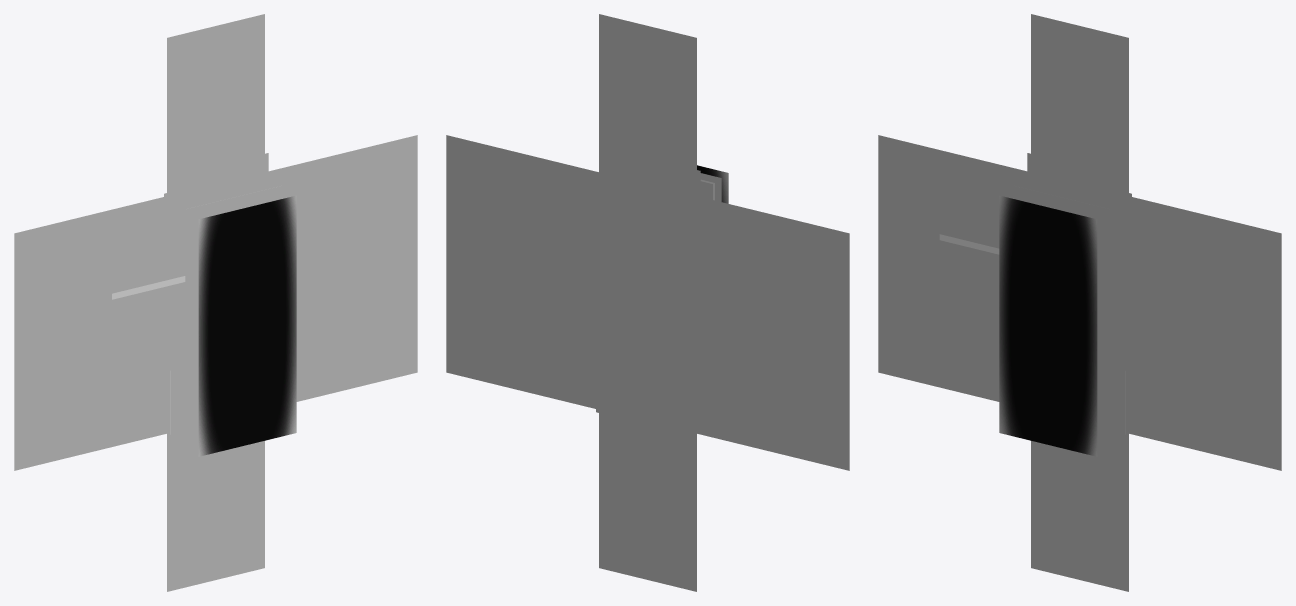
3 views of the same model, side by side, from view 1: azimuth 30°, elevation 25°; view 2: azimuth 150°, elevation 25°; view 3: azimuth 330°, elevation 25° (orthographic).
Parts seen in each view (by area): view 1: FadeQuad (×12), Quad (×2); view 2: FadeQuad (×6); view 3: FadeQuad (×12), Quad (×2).
Part boxes in pixels (left/top/right/bottom): FadeQuad (×12): left=14, top=14, right=417, bottom=591; Quad (×2): left=183, top=184, right=296, bottom=456; FadeQuad (×6): left=446, top=14, right=849, bottom=591; FadeQuad (×12): left=878, top=14, right=1281, bottom=591; Quad (×2): left=999, top=184, right=1112, bottom=456.
Size of what is drawn, in the model's own units: 2640 by 3467 by 396.
5 materials, 2 textured.
